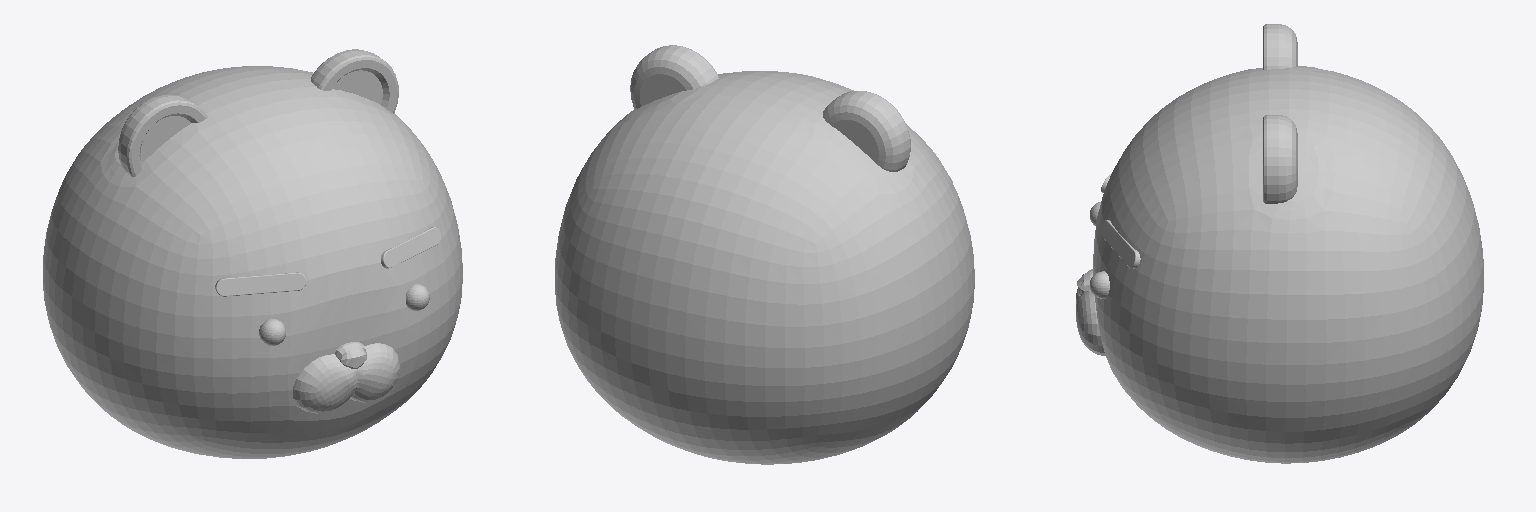
The model's file is lion-backup.obj.
The picture shows the model from 3 angles: view 1: azimuth 30°, elevation 25°; view 2: azimuth 150°, elevation 25°; view 3: azimuth 270°, elevation 25°; orthographic projection.
Parts seen in each view (by area): view 1: head.001, ear, mouse.001, eyebrow, eye, nose; view 2: head.001, ear; view 3: head.001, ear, mouse.001, eyebrow, eye.
Part boxes in pixels (x1,y1,x2,y2): head.001: (43, 66, 462, 458); ear: (118, 49, 398, 176); mouse.001: (293, 343, 399, 413); eyebrow: (215, 227, 440, 296); eye: (259, 284, 429, 345); nose: (335, 342, 366, 368); head.001: (555, 71, 974, 464); ear: (630, 45, 910, 171); head.001: (1093, 66, 1483, 463); ear: (1263, 24, 1297, 203); mouse.001: (1076, 269, 1105, 355); eyebrow: (1101, 173, 1140, 268); eye: (1090, 202, 1109, 298).
Size of the model in its own units: 0.3525 by 0.3383 by 0.3442.